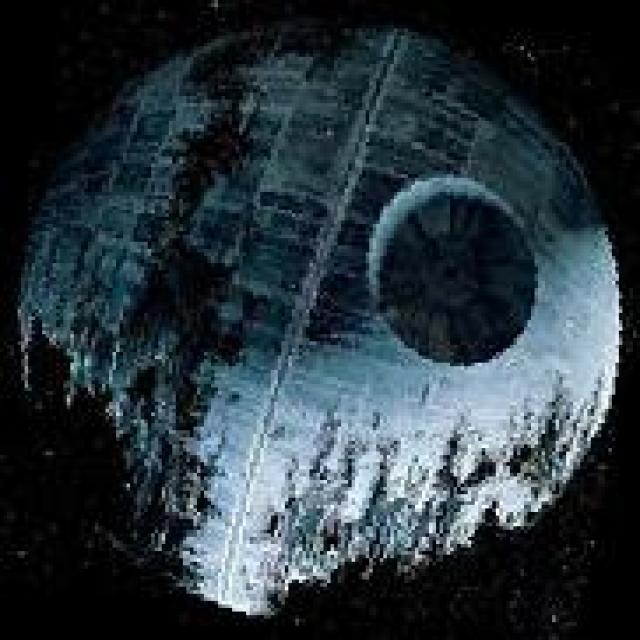Death Star: (7, 0, 629, 619)
